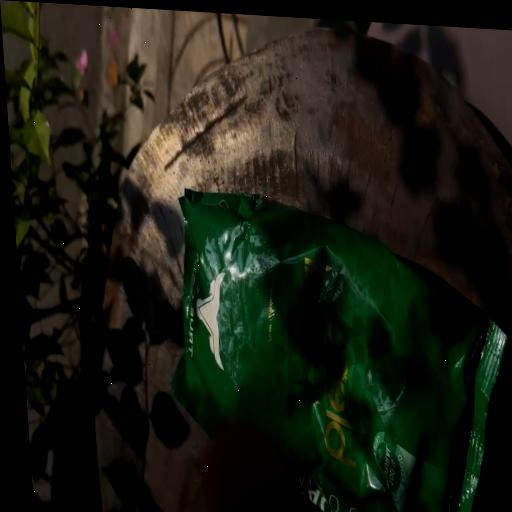cafe_xay: (173, 189, 507, 512)
